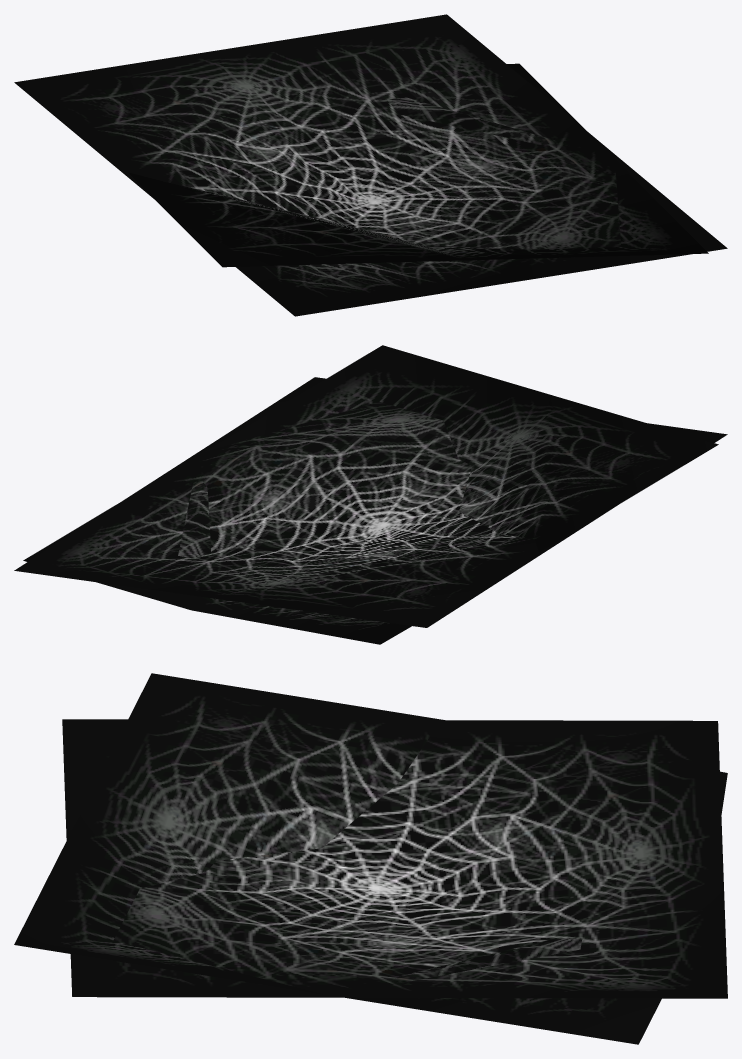
Rendered from DWARF_PALACE_SPIDERWEB05.fbx.
3 views of the same model, one above another, from view 1: azimuth 30°, elevation 25°; view 2: azimuth 150°, elevation 25°; view 3: azimuth 270°, elevation 25° (orthographic). The views are drawn at different scales.
Parts seen in each view (by area): view 1: DWARF_PALACE_SPIDERWEB05; view 2: DWARF_PALACE_SPIDERWEB05; view 3: DWARF_PALACE_SPIDERWEB05.
Part boxes in pixels (box(x1,y1,x2,y2)): DWARF_PALACE_SPIDERWEB05: box(14, 14, 727, 316); DWARF_PALACE_SPIDERWEB05: box(14, 345, 727, 644); DWARF_PALACE_SPIDERWEB05: box(14, 673, 727, 1044).
Bounding box in the file's own units: 112884 × 22013 × 123218.
1 material, 1 textured.
